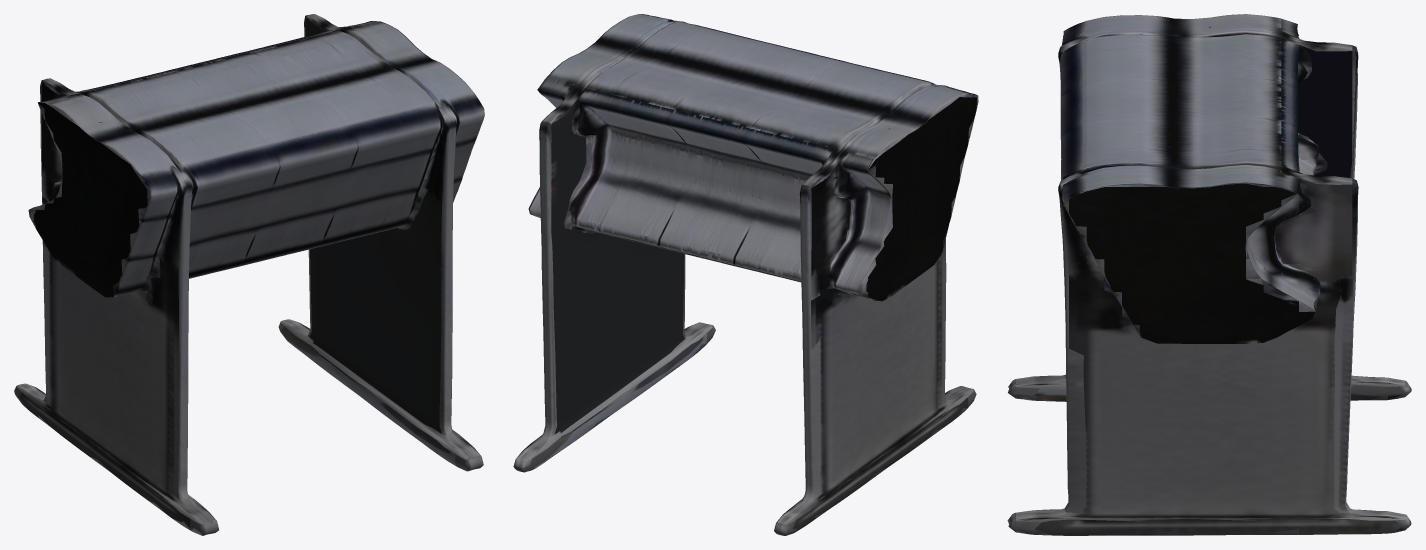
Rendered from street-guardrail.glb.
3 renders of one model, left to right at view 1: azimuth 30°, elevation 25°; view 2: azimuth 150°, elevation 25°; view 3: azimuth 270°, elevation 25°, orthographic. The views are drawn at different scales.
Visible parts, largest first — view 1: tmpc63bkmjk.ply; view 2: tmpc63bkmjk.ply; view 3: tmpc63bkmjk.ply.
Boxes of the visible parts, <box> form: tmpc63bkmjk.ply: <box>14,14,484,535</box>; tmpc63bkmjk.ply: <box>513,14,978,535</box>; tmpc63bkmjk.ply: <box>1007,14,1411,535</box>.
Size of the model in its own units: 1 by 1 by 1.
Materials: 1 (1 with a texture image).
